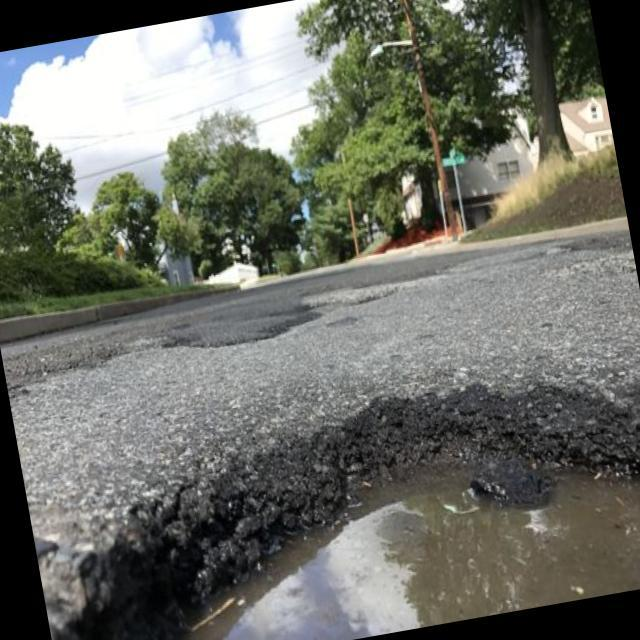Pothole: (6, 273, 640, 640)
